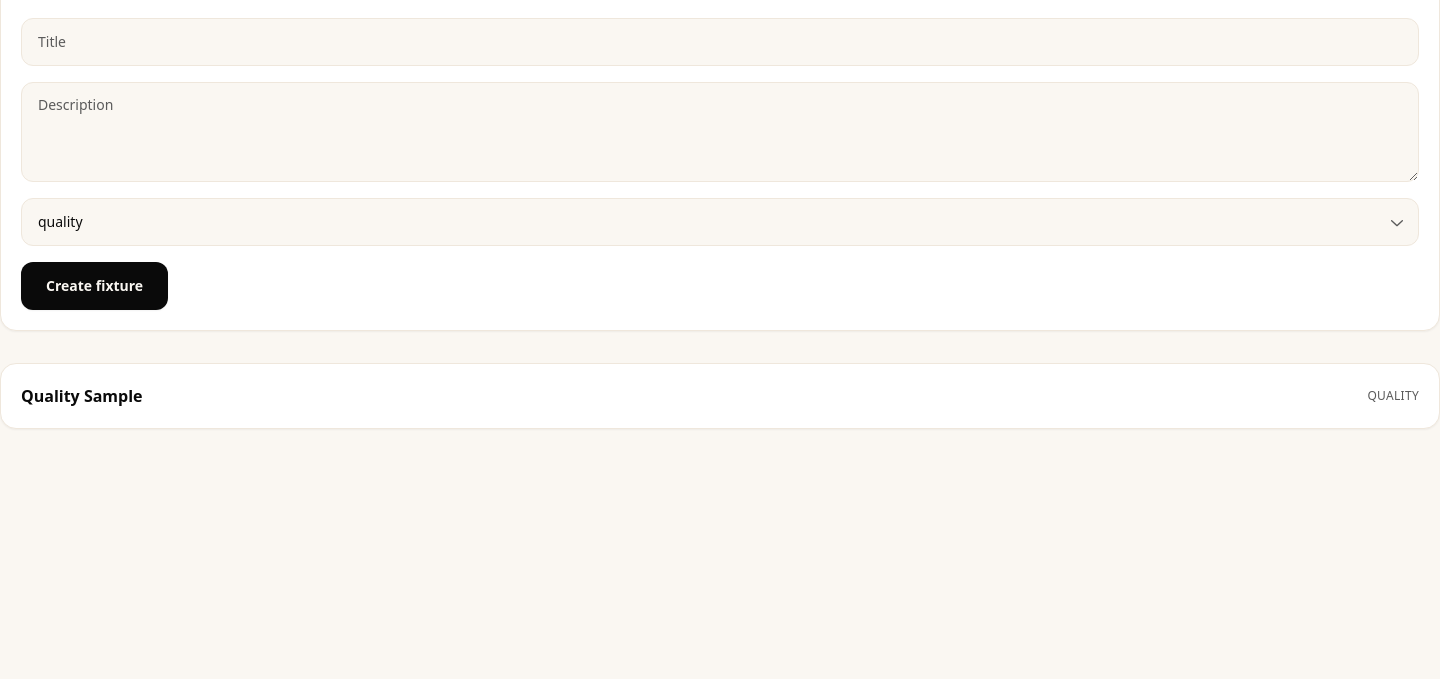
Scenario: AdminCalibrationFixturesPanel › answer-key rows › confirms the saved row and leaves Upload and the other rows alone
Expected: the text "Quality Sample" is shown, [21,384,142,408]
Click the button "Quality Sample quality": (82, 396) [21,384,1419,408]
(page scrolled)
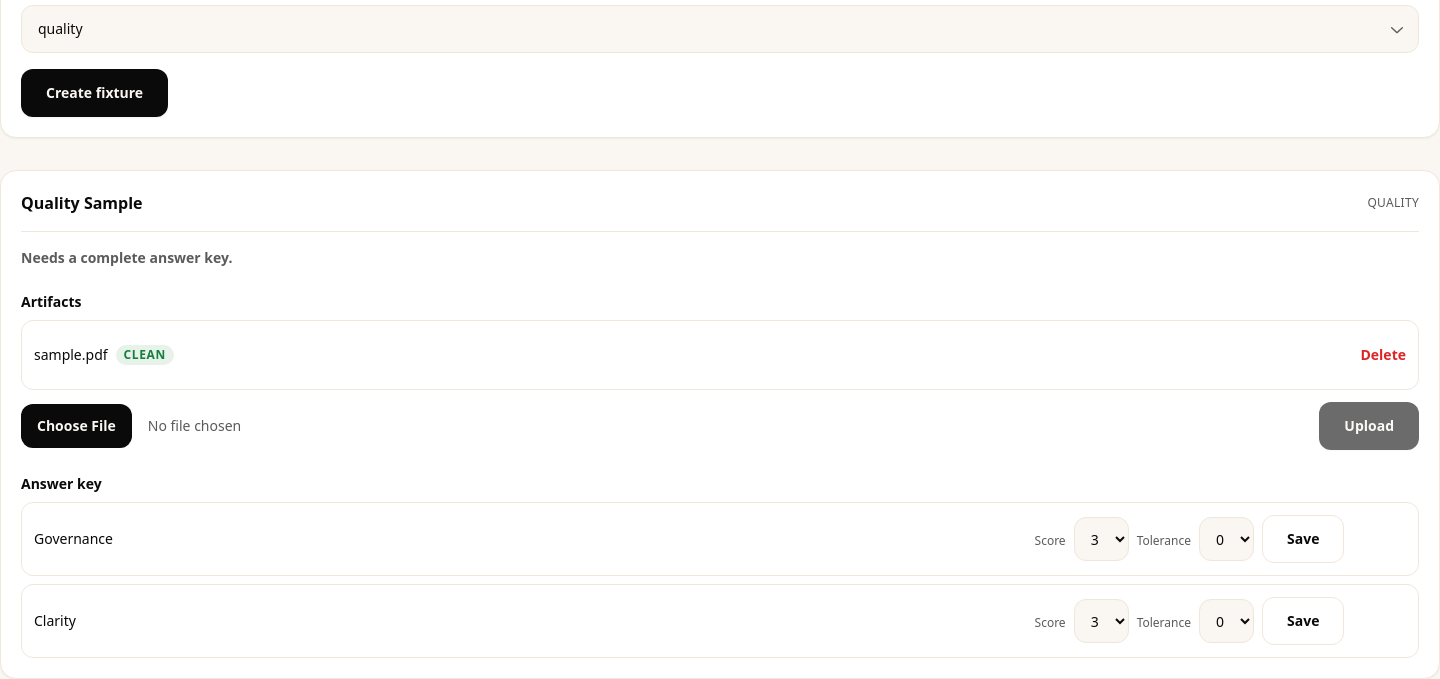
Now the text "Clarity" is shown, box [34,611,76,630]
Click the button "Save" in the row of "Governance": (1303, 539) [1262,515,1344,563]
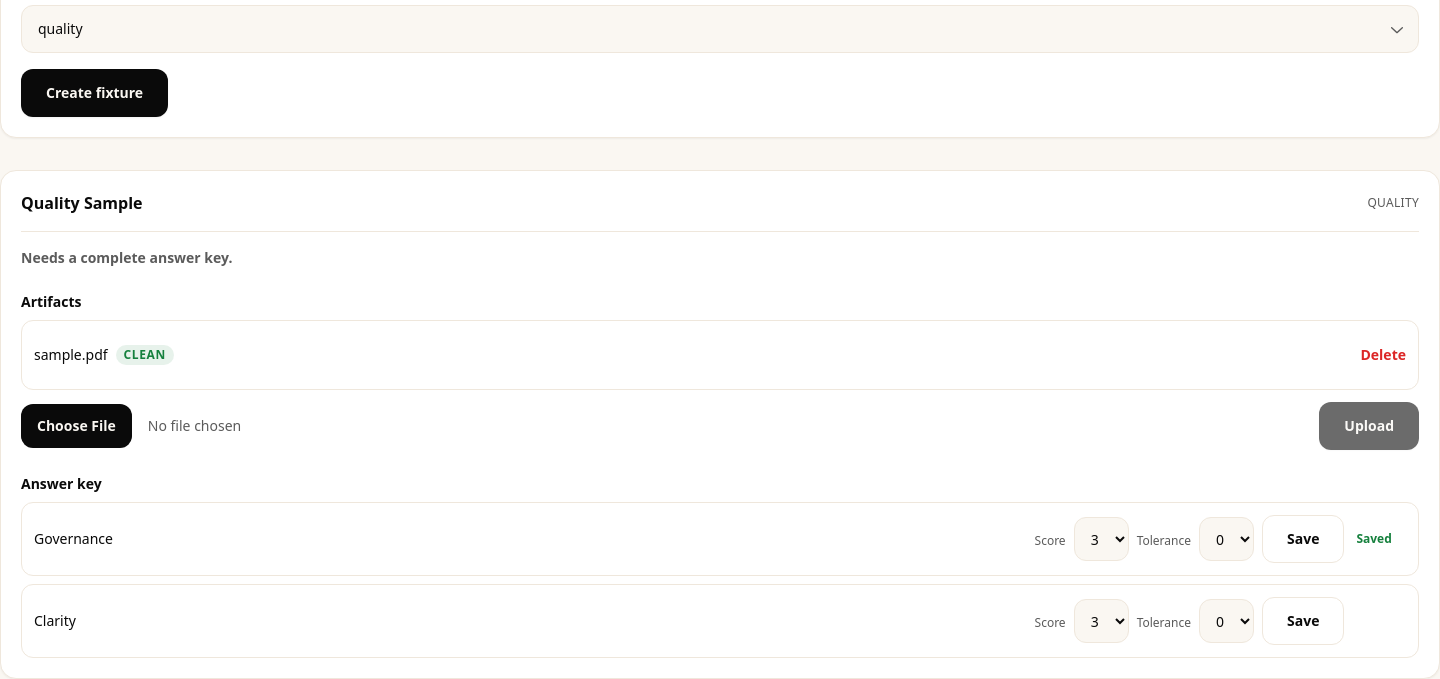
Now the button "Save" in the row of "Clarity" is enabled, box [1262,597,1344,645]
Now the text "Saved" is shown, box [1356,531,1392,547]
